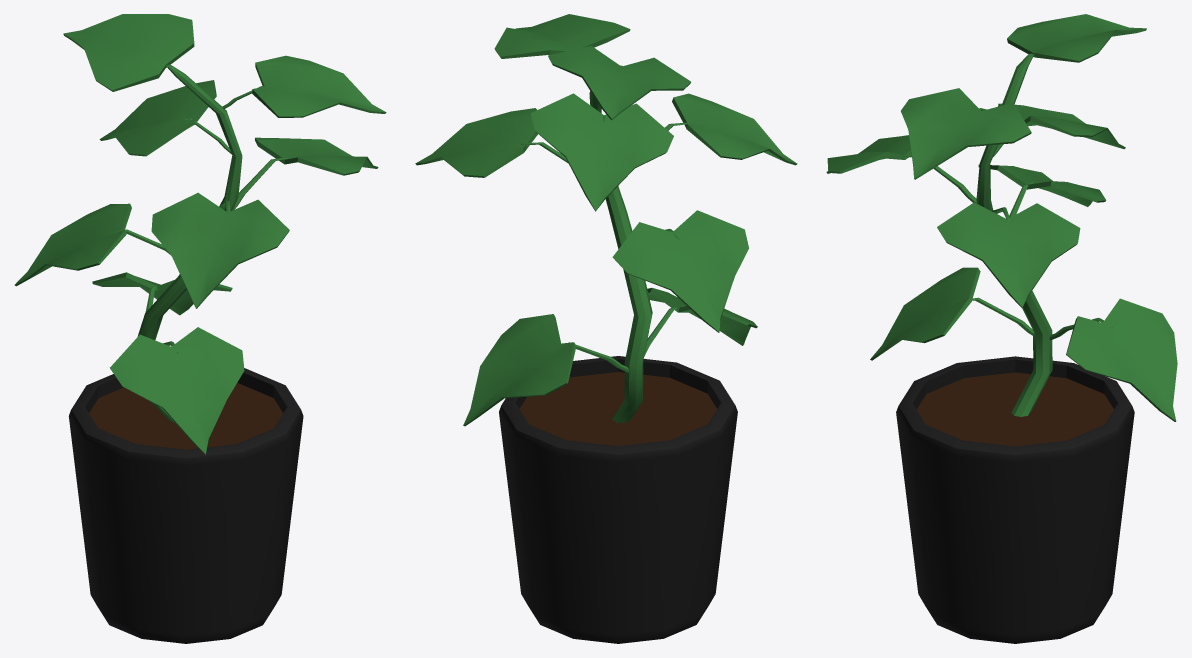
The model's file is LowSmallPottedPlant.fbx.
The picture shows the model from 3 angles, left to right: view 1: azimuth 30°, elevation 25°; view 2: azimuth 150°, elevation 25°; view 3: azimuth 270°, elevation 25°; orthographic projection.
Visible parts, largest first — view 1: polySurface71; view 2: polySurface71; view 3: polySurface71.
Boxes of the visible parts, x1,y1,x2,y2 form: polySurface71: (14, 14, 386, 643); polySurface71: (415, 14, 797, 643); polySurface71: (826, 14, 1177, 643).
Size of the model in its own units: 11.41 by 18.56 by 10.3.
